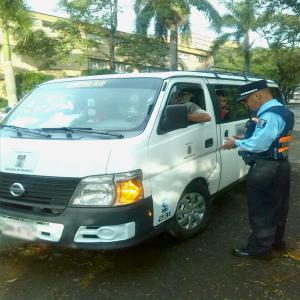Vehicle-registration-plate: (1, 219, 37, 243)
